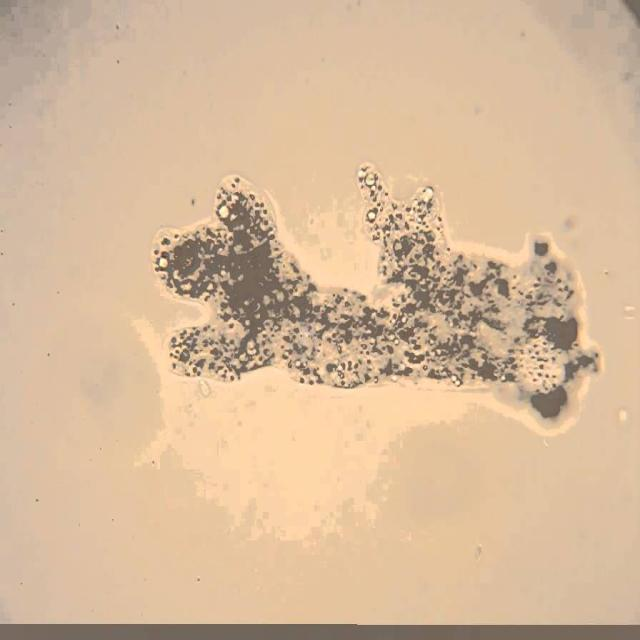Amoeba: (151, 160, 601, 423)
